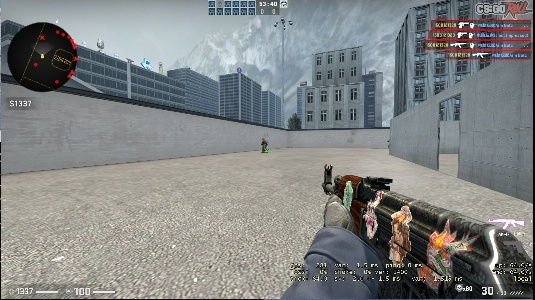body: (260, 137, 270, 153)
head: (261, 137, 265, 141)
